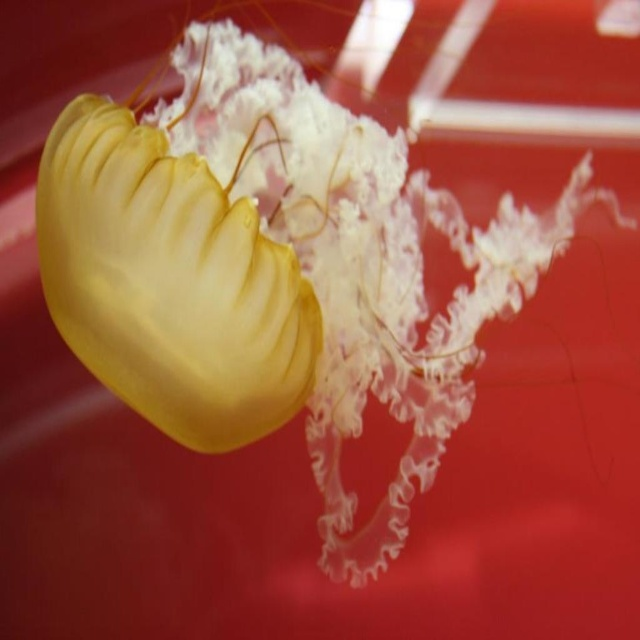Jellyfish: (33, 0, 639, 587)
